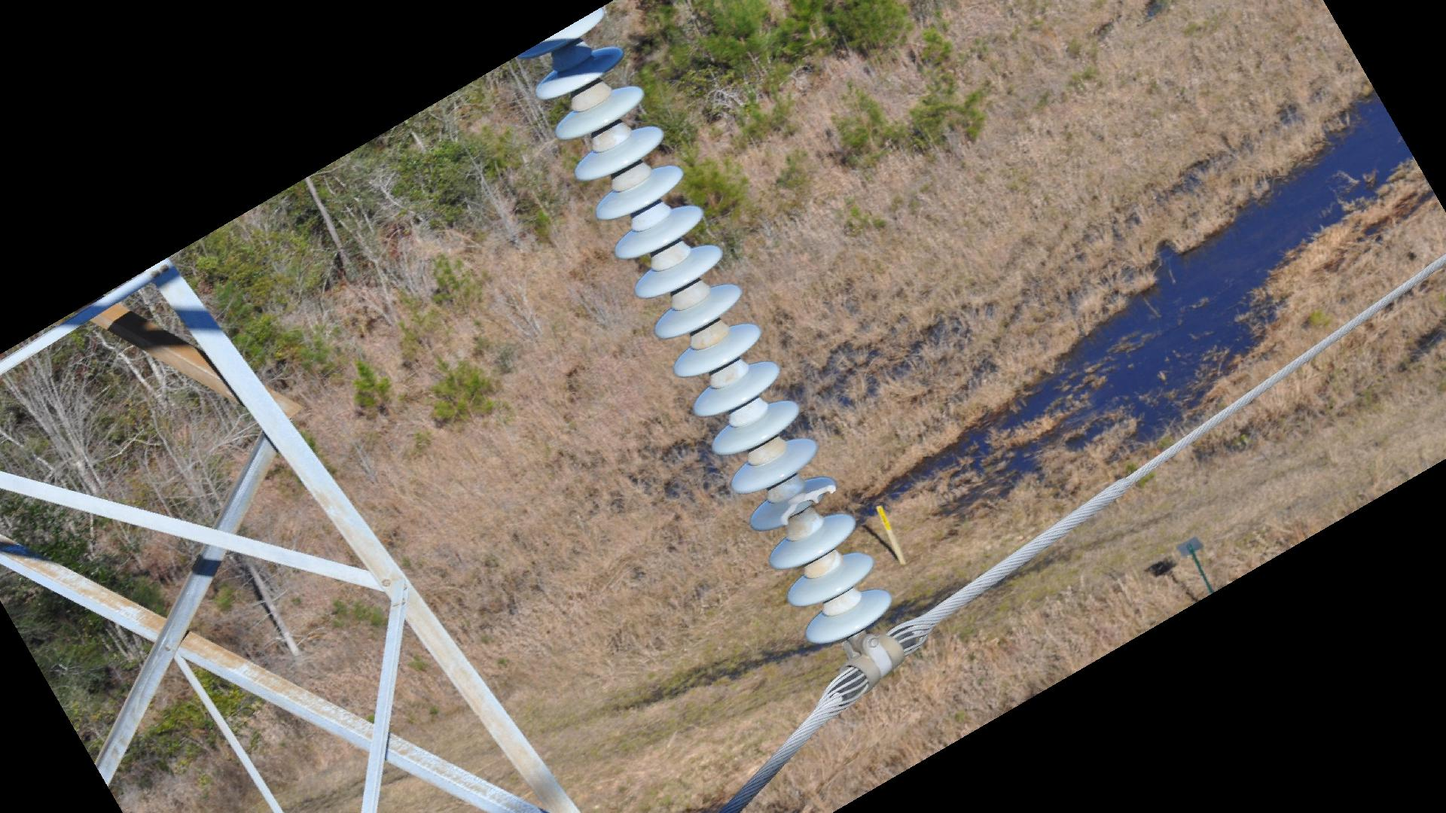insulator: (514, 1, 895, 651)
insulator_breakage: (776, 479, 840, 529)
